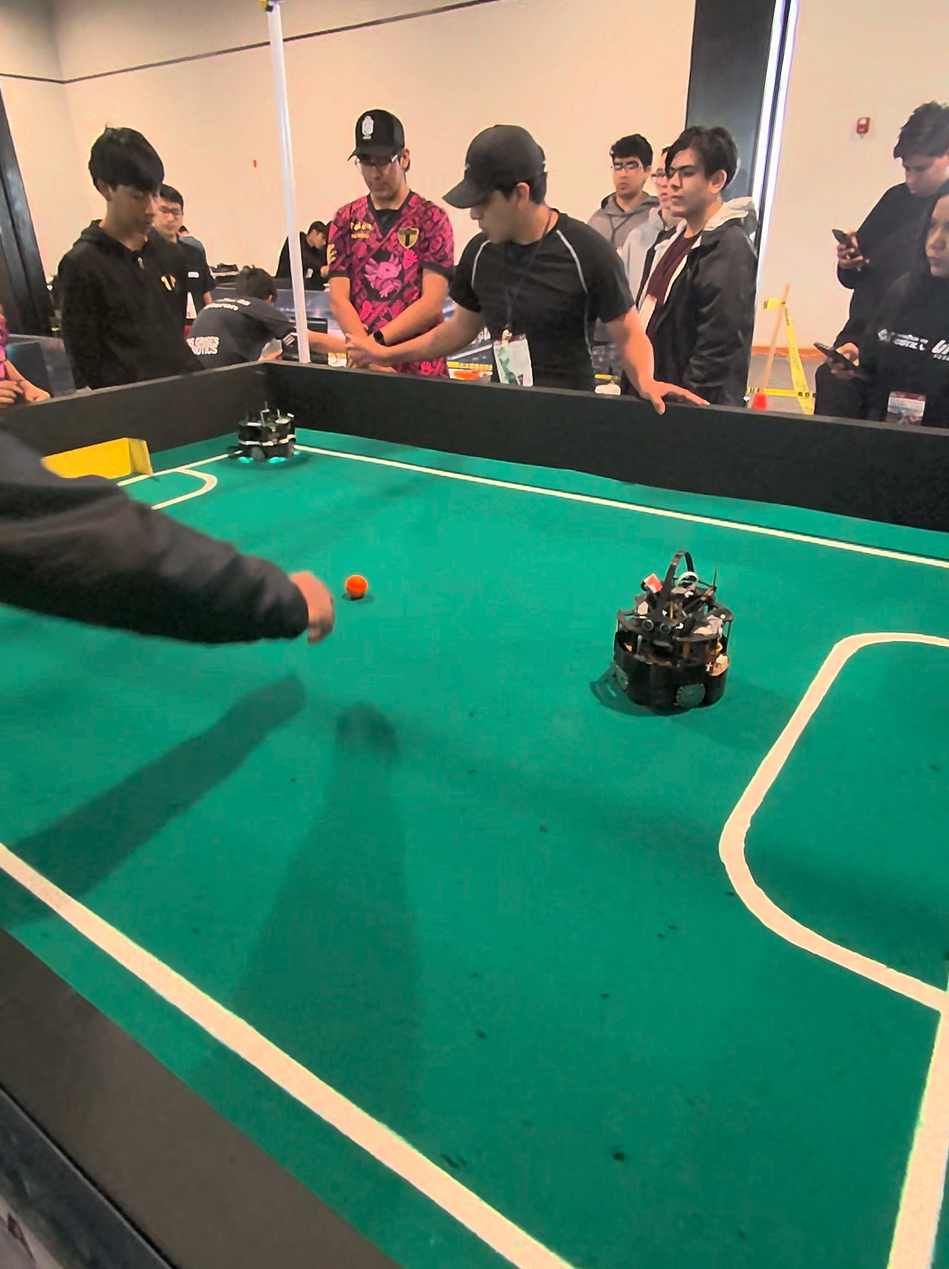Robot: (606, 556, 735, 726), (227, 367, 299, 470)
pelota: (346, 573, 369, 597)
